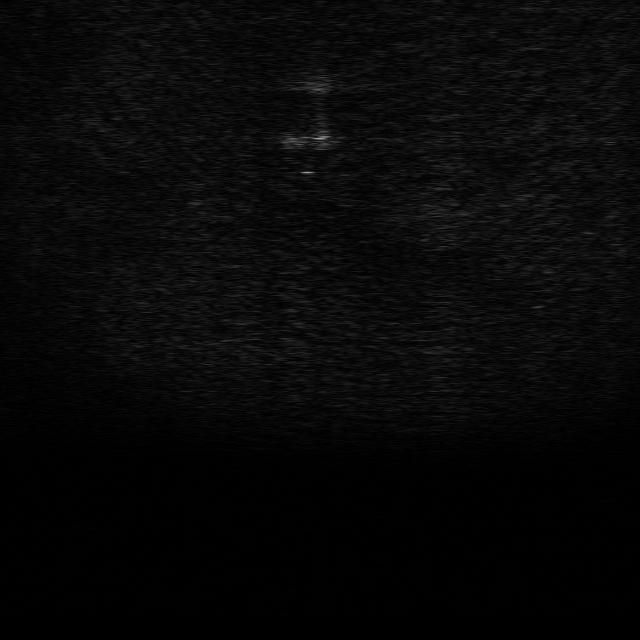plane: (276, 121, 345, 177)
